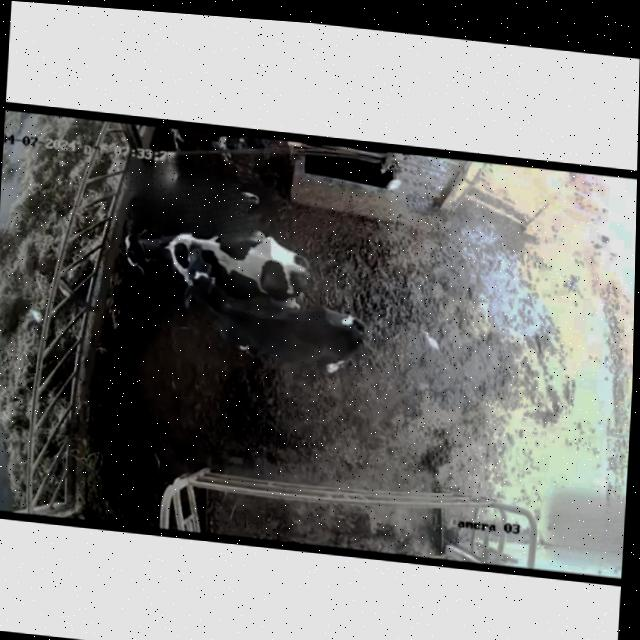propping: (166, 231, 245, 318)
